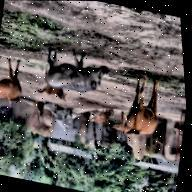boar: (33, 35, 126, 107)
